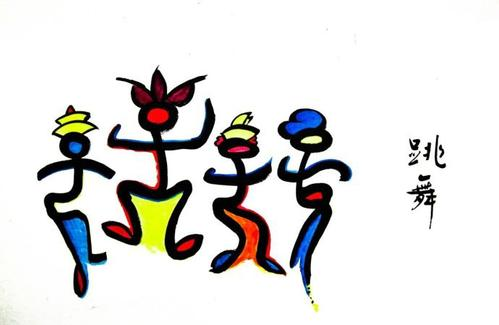chinese: (408, 131, 450, 229)
naxi: (33, 66, 352, 310)
